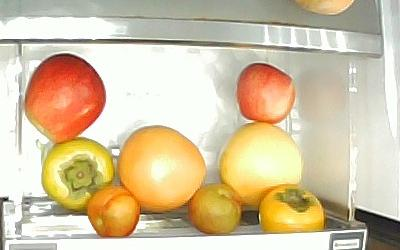apple: (23, 51, 106, 143), (234, 61, 296, 124)
grapefruit: (115, 123, 208, 212), (217, 120, 302, 206)
persimmon: (39, 135, 114, 211), (257, 182, 325, 233)
prune: (185, 181, 242, 234), (85, 184, 140, 237)
